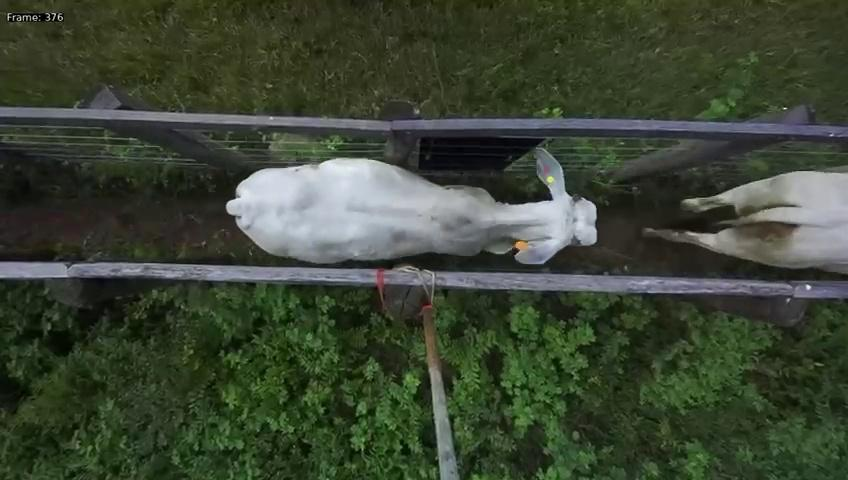cattle: (221, 135, 598, 266)
